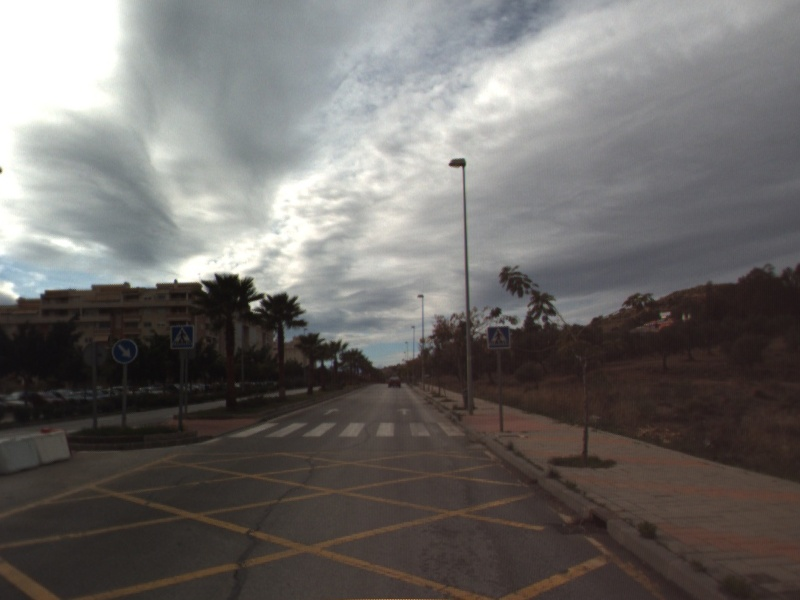STRAIGHT: (321, 406, 342, 417), (395, 405, 414, 417)
